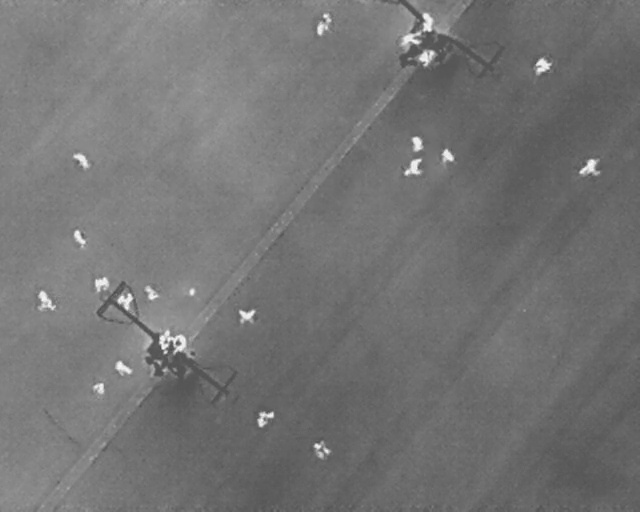Person: (30, 285, 59, 317), (110, 358, 136, 381), (529, 54, 553, 78), (312, 10, 333, 37), (70, 149, 92, 171), (139, 282, 161, 304), (157, 330, 173, 355), (579, 158, 601, 176), (313, 438, 331, 460), (404, 157, 422, 176), (257, 410, 275, 428), (117, 291, 134, 310), (173, 333, 187, 354), (238, 307, 256, 323), (421, 13, 434, 33), (95, 277, 111, 292), (74, 228, 86, 247), (441, 147, 454, 164), (412, 135, 423, 153), (91, 382, 106, 395)
